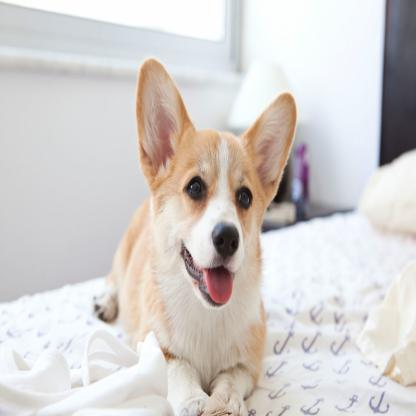Korgi: (92, 53, 302, 416)
